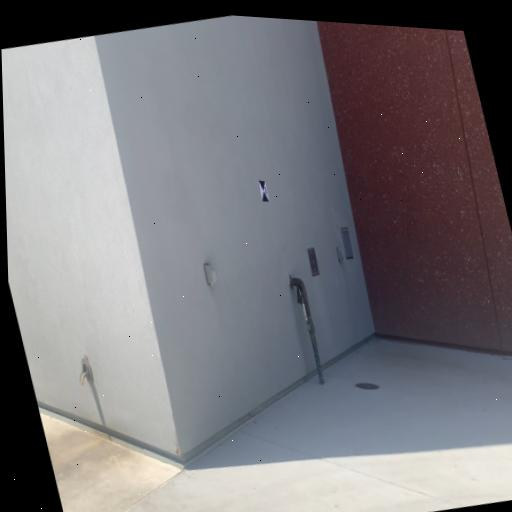target3: (258, 179, 270, 203)
